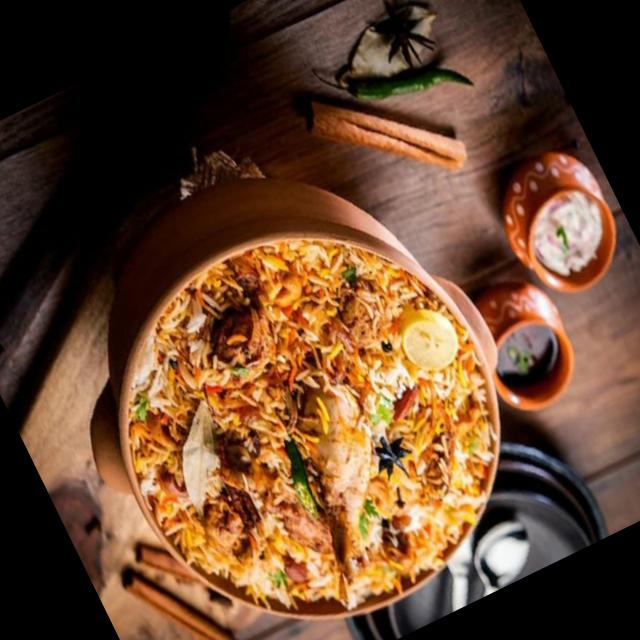Biryani: (66, 179, 557, 640)
